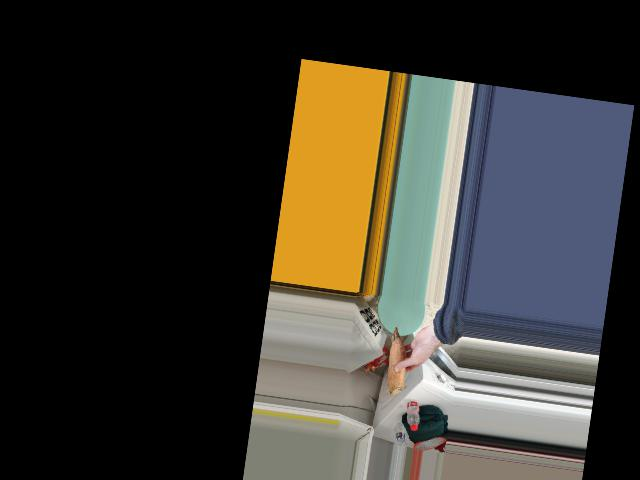sweet_potato: (379, 327, 415, 399)
